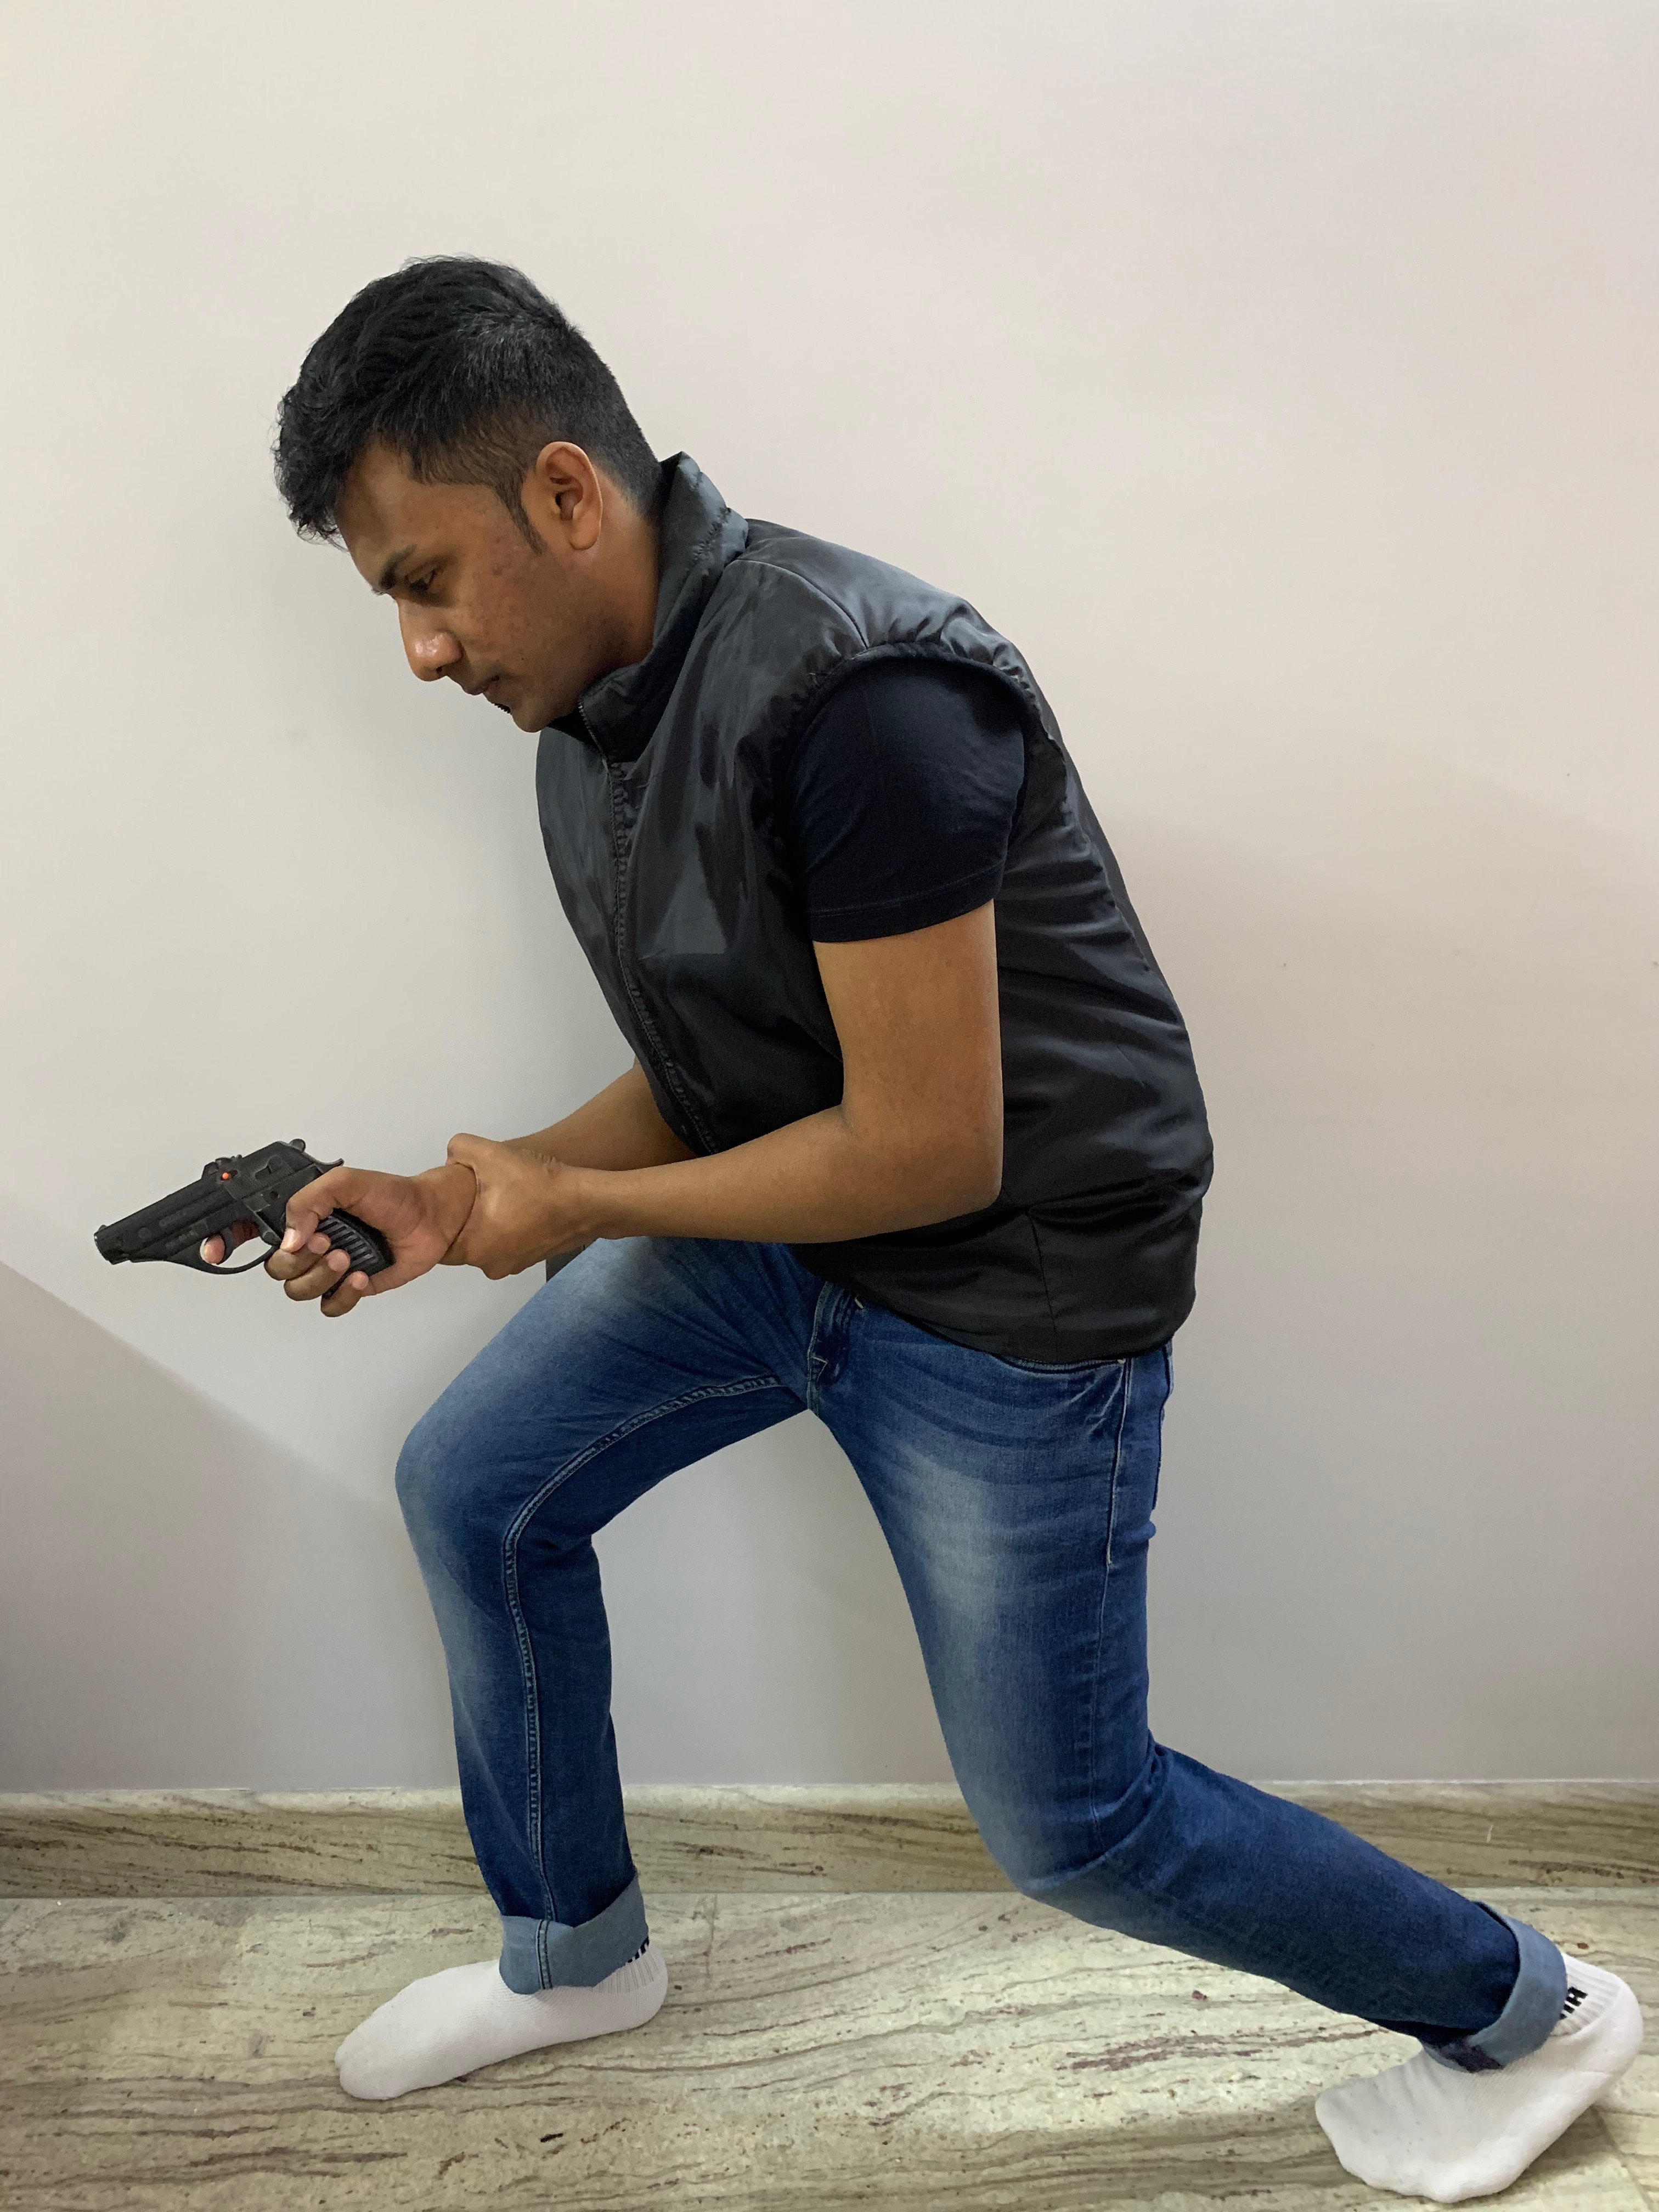gun: (91, 1132, 394, 1287)
